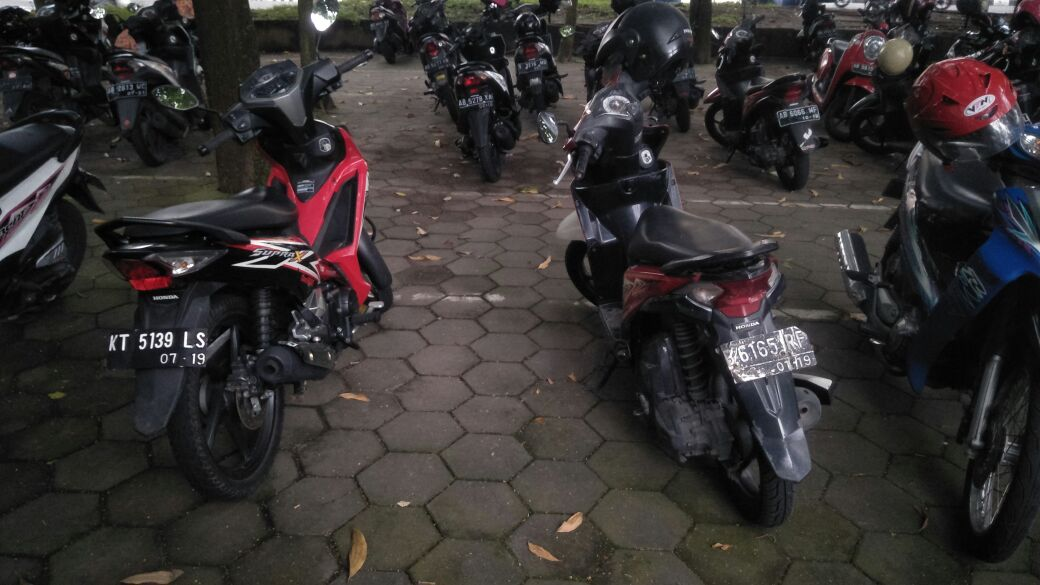plate: (724, 323, 816, 381), (103, 327, 209, 367), (775, 102, 820, 128), (457, 93, 494, 110)
